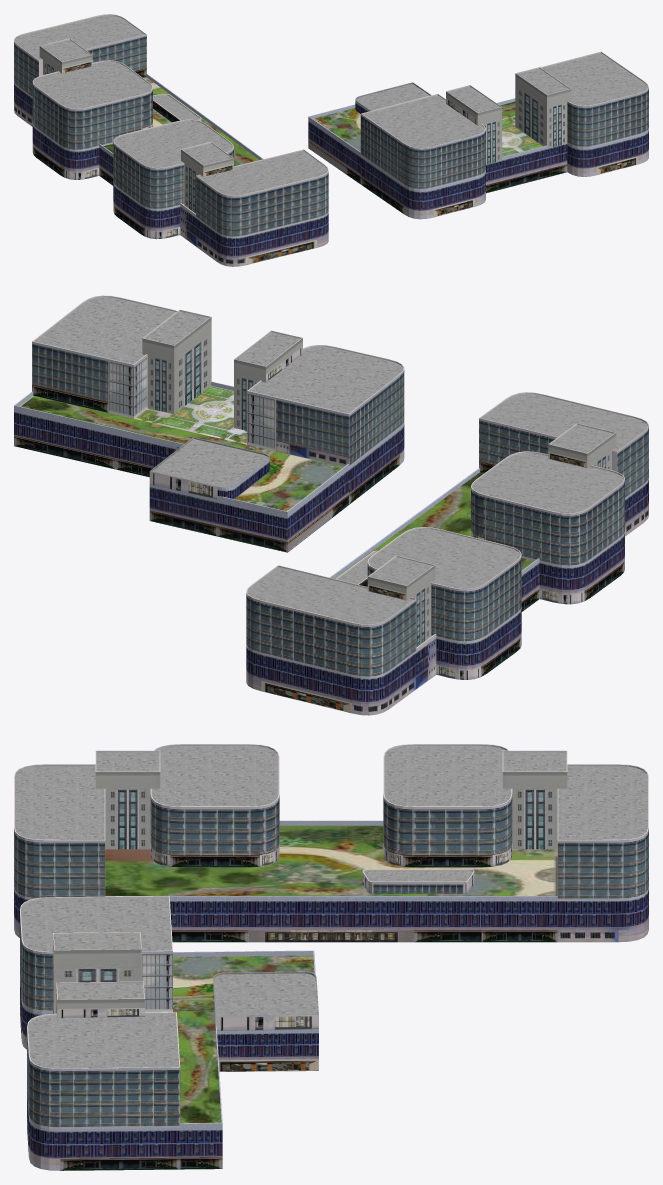
The picture shows the model from 3 angles, top to bottom: view 1: azimuth 30°, elevation 25°; view 2: azimuth 150°, elevation 25°; view 3: azimuth 270°, elevation 25°; orthographic projection. The views are drawn at different scales.
Visible parts, largest first — view 1: CongVienPhanMemSo2_2; view 2: CongVienPhanMemSo2_2; view 3: CongVienPhanMemSo2_2.
Part boxes in pixels (x1,y1,x2,y2): CongVienPhanMemSo2_2: [14, 14, 648, 266]; CongVienPhanMemSo2_2: [14, 295, 648, 715]; CongVienPhanMemSo2_2: [14, 744, 648, 1170].
Bounding box in the file's own units: 235 × 40.1 × 195.
Materials: 1 (1 with a texture image).
